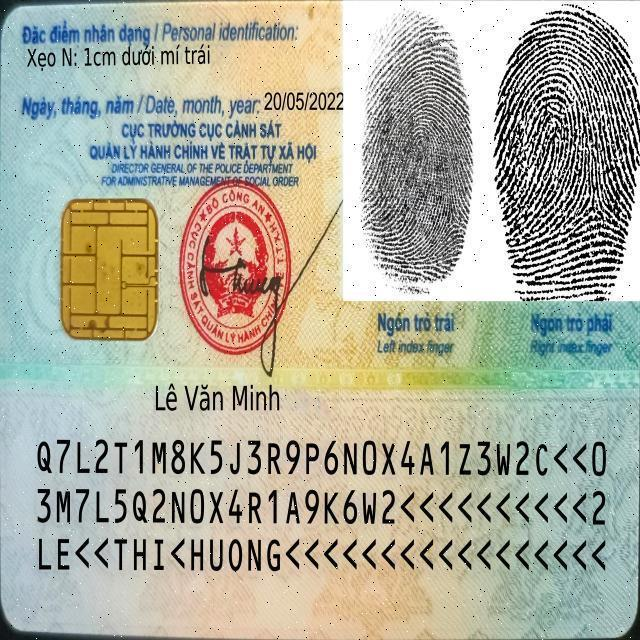features: (26, 42, 212, 74)
finger_print: (488, 3, 638, 361), (345, 1, 487, 361)
issue_date: (262, 87, 345, 116)
